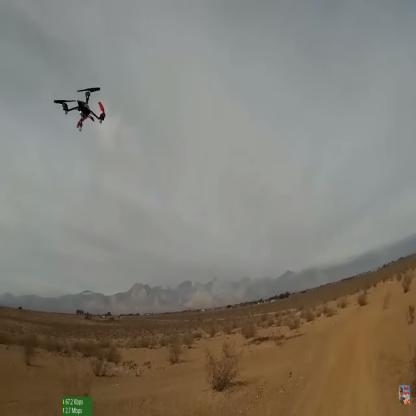drone: (49, 81, 111, 137)
